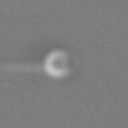normal: (1, 62, 41, 77)
